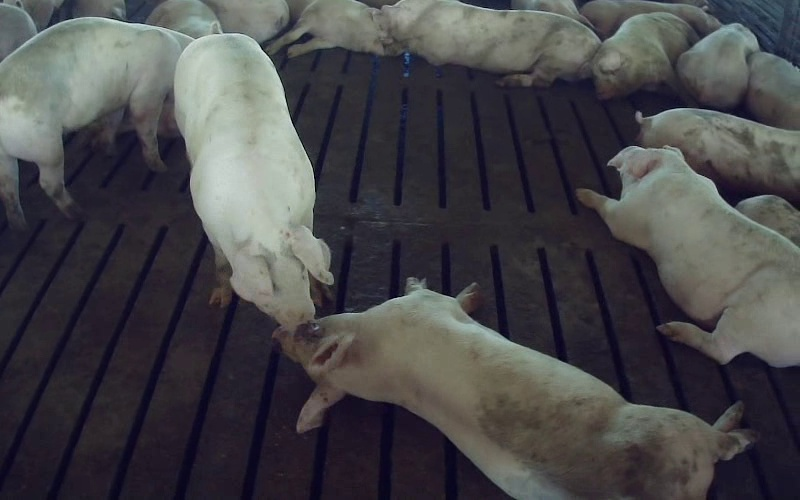pig: (275, 278, 754, 499), (577, 146, 799, 366), (174, 36, 333, 330), (0, 18, 191, 226), (376, 0, 600, 86), (636, 109, 799, 203), (592, 12, 698, 104), (266, 0, 402, 57), (676, 23, 759, 109), (580, 0, 720, 38), (746, 52, 799, 129)
